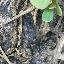Purslane: (1, 0, 64, 26)
